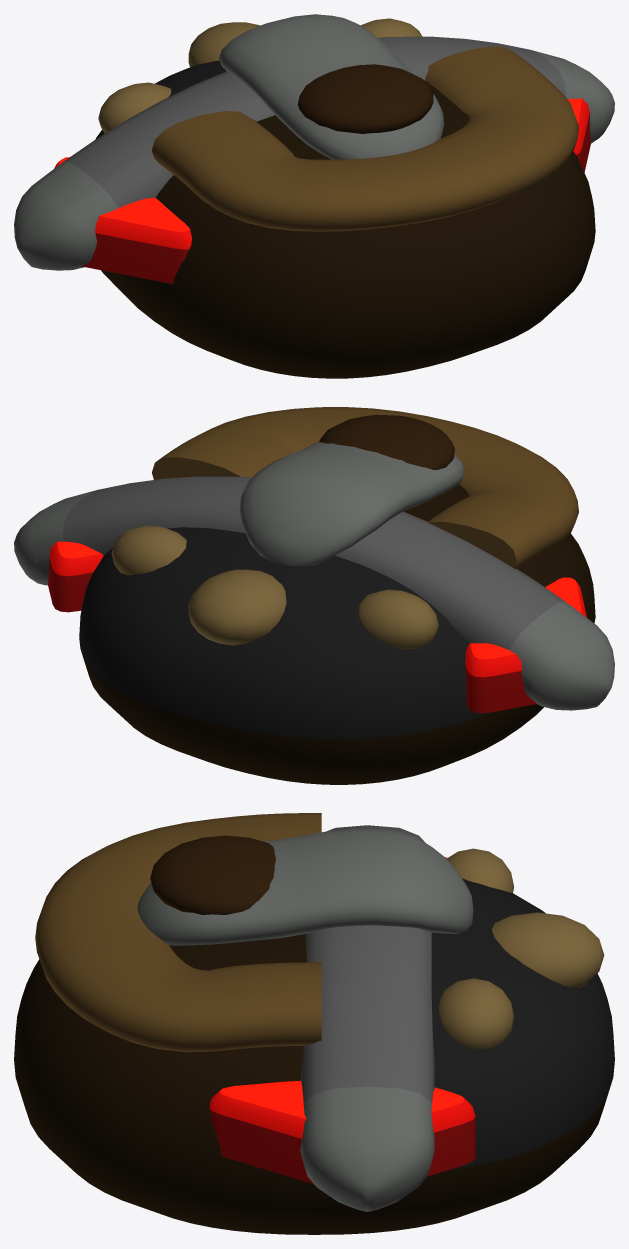
File: pod_165.glb
3 renders of one model, top to bottom at view 1: azimuth 30°, elevation 25°; view 2: azimuth 150°, elevation 25°; view 3: azimuth 270°, elevation 25°, orthographic. The views are drawn at different scales.
Visible parts, largest first — view 1: shell, horseshoe, bar, visor, lens, vane-1, knob1, knob0, vane1, knob2; view 2: shell, bar, horseshoe, visor, knob0, lens, vane-1, knob1, vane1, knob2; view 3: shell, horseshoe, bar, visor, vane1, lens, knob0, knob2, knob1.
Boxes of the visible parts, x1,y1,x2,y2 form: shell: (95,60,595,378); horseshoe: (152,46,578,231); bar: (14,36,614,270); visor: (218,14,444,159); lens: (298,64,433,133); vane-1: (54,157,191,284); knob1: (98,82,171,133); knob0: (188,22,259,67); vane1: (567,98,591,172); knob2: (361,18,422,37); shell: (79,484,595,784); bar: (14,476,614,710); horseshoe: (152,407,578,568); visor: (239,441,465,566); knob0: (188,569,286,645); lens: (319,414,454,469); vane-1: (465,577,586,713); knob1: (359,589,438,649); vane1: (47,541,103,612); knob2: (111,525,186,575); shell: (14,878,614,1234); horseshoe: (35,813,321,1052); bar: (300,825,434,1211); visor: (137,828,473,945); vane1: (209,1080,475,1183); lens: (150,835,275,914); knob0: (491,912,604,987); knob2: (439,978,513,1049); knob1: (447,848,513,892).
Bounding box in the file's own units: 22.39 × 10.42 × 17.
